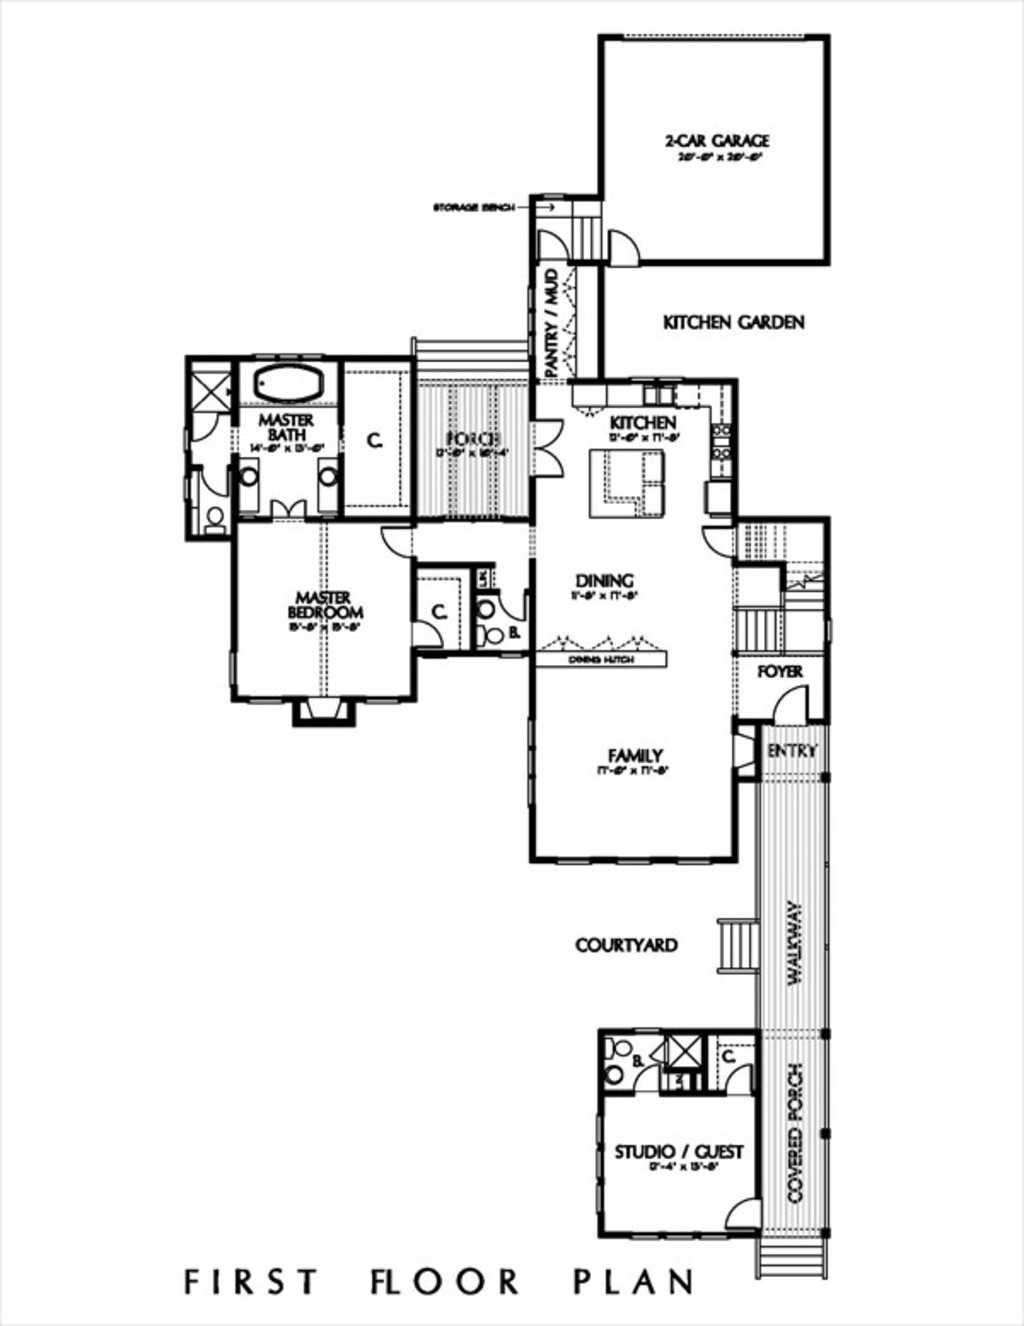coffee_table: (672, 1036, 711, 1069), (190, 375, 231, 397)
door: (774, 685, 815, 722), (534, 416, 555, 475), (500, 583, 531, 622), (382, 521, 415, 556), (723, 1199, 762, 1228), (698, 522, 727, 558), (606, 234, 641, 263), (190, 465, 225, 489), (727, 1067, 755, 1093), (266, 497, 300, 516), (541, 230, 564, 258), (415, 624, 445, 644), (637, 1073, 662, 1090), (194, 411, 213, 432)
kitchen_bar: (602, 387, 731, 399)
large_sink: (606, 1026, 631, 1056), (472, 630, 498, 648), (207, 505, 225, 524)
small_sink: (600, 1069, 631, 1089), (478, 603, 496, 609)
tub: (243, 354, 351, 403)
